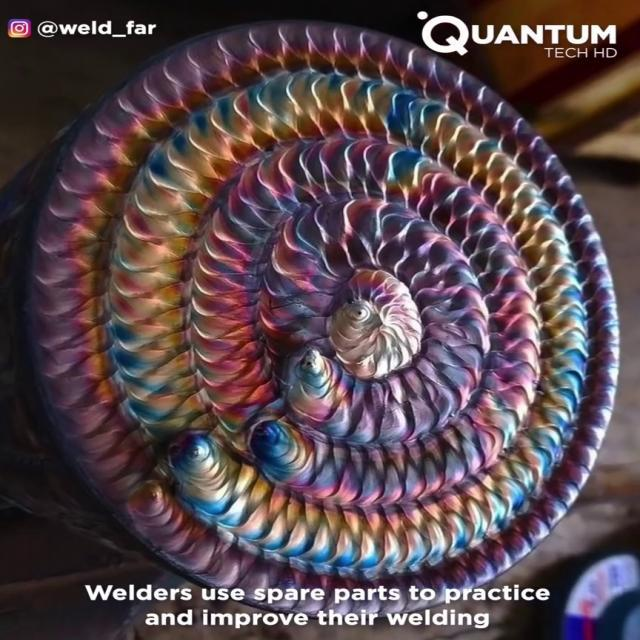Good Weld: (57, 90, 621, 564)
